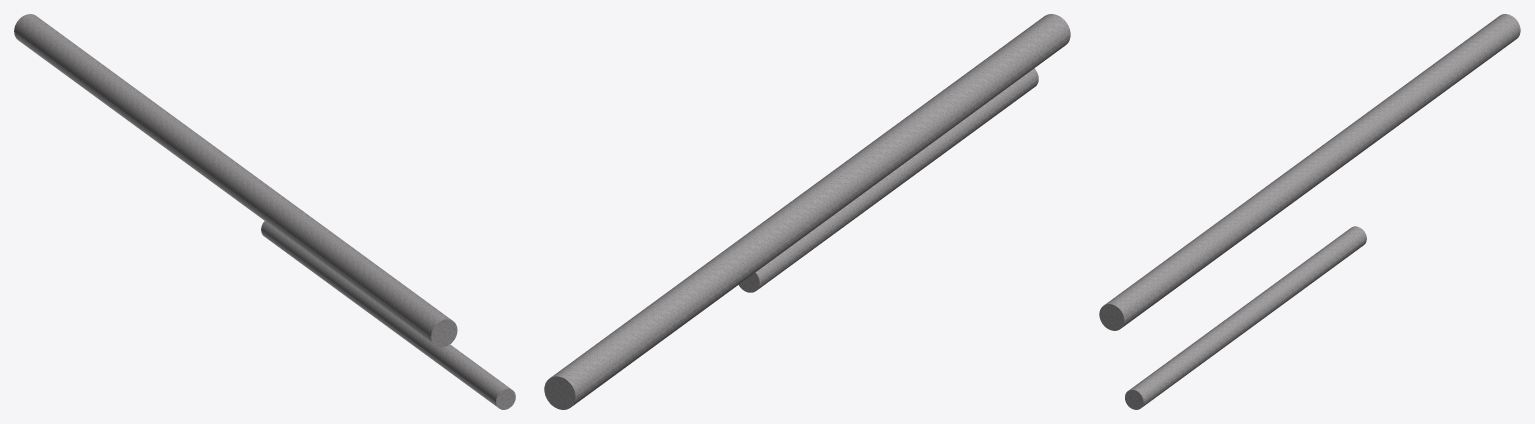
3 renders of one model, left to right at view 1: azimuth 30°, elevation 25°; view 2: azimuth 150°, elevation 25°; view 3: azimuth 330°, elevation 25°, orthographic. The views are drawn at different scales.
Visible parts, largest first — view 1: 0_0_2_1_2_3_1_2; view 2: 0_0_2_1_2_3_1_2; view 3: 0_0_2_1_2_3_1_2.
Part boxes in pixels (x1,y1,x2,y2): 0_0_2_1_2_3_1_2: (14,14,515,409); 0_0_2_1_2_3_1_2: (544,14,1070,409); 0_0_2_1_2_3_1_2: (1099,14,1520,409).
Bounding box in the file's own units: 1.99 × 2.51 × 22.9.
Materials: 2 (2 with a texture image).
